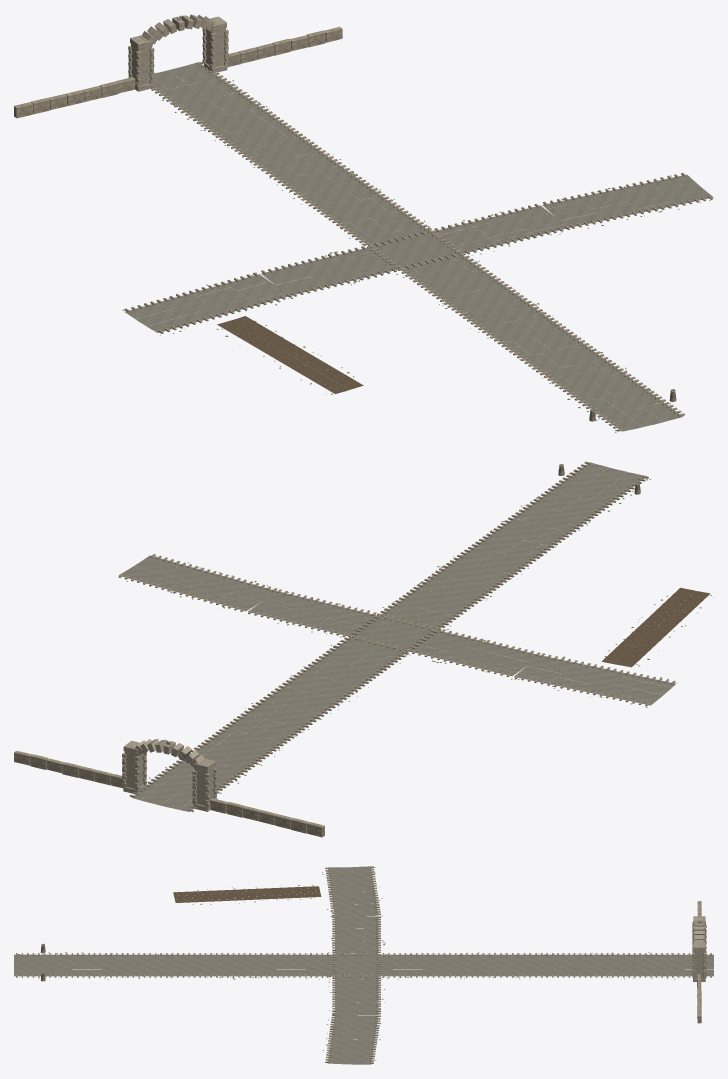
Rendered from streets.gltf.
3 views of the same model, one above another, from view 1: azimuth 30°, elevation 25°; view 2: azimuth 150°, elevation 25°; view 3: azimuth 270°, elevation 25° (orthographic). The views are drawn at different scales.
Visible parts, largest first — view 1: streets; view 2: streets; view 3: streets.
Part boxes in pixels (x1,y1,x2,y2): streets: [14, 14, 713, 432]; streets: [14, 461, 713, 837]; streets: [14, 866, 713, 1064].
Size of the model in its own units: 64.37 by 6.69 by 96.
7 materials, 7 textured.
